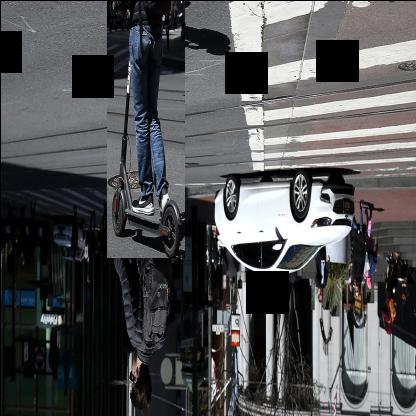kickboard: (106, 0, 184, 257)
